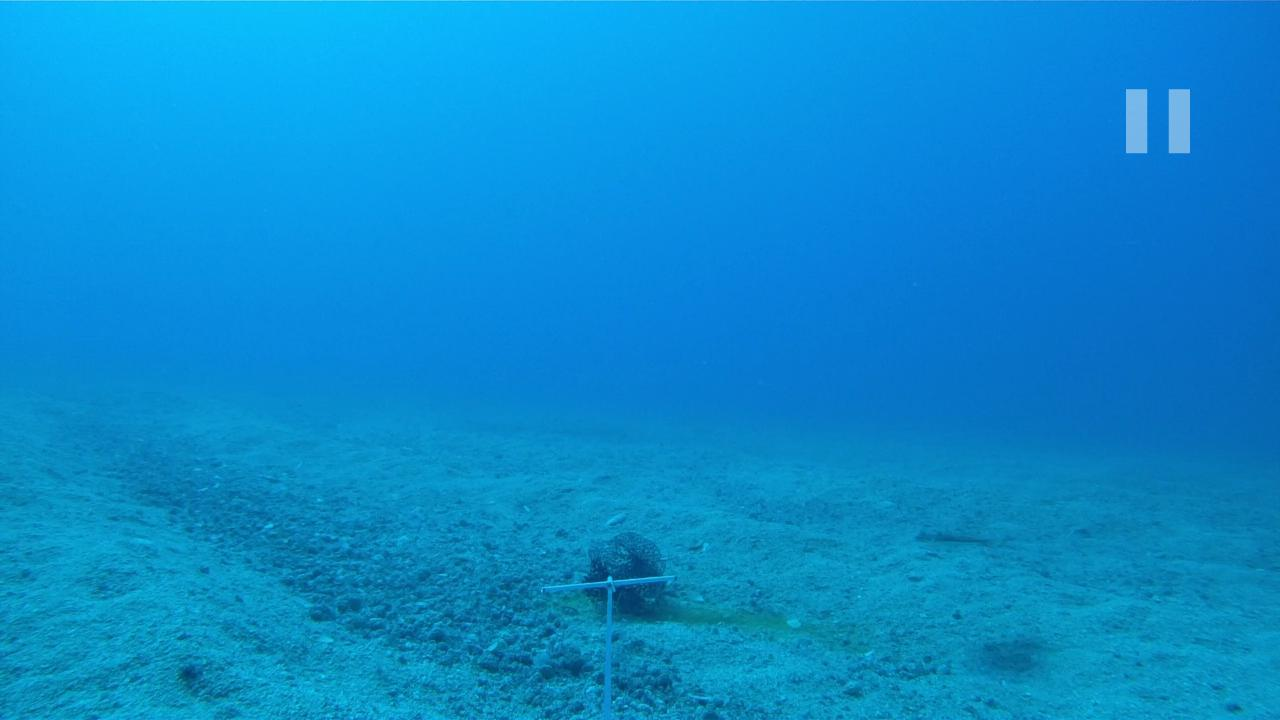bothus: (913, 526, 994, 553)
